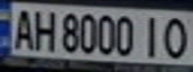0: (115, 12, 139, 57), (97, 11, 118, 56), (78, 10, 96, 55)
8: (57, 9, 81, 53)
A: (6, 6, 36, 51)
H: (30, 7, 57, 52)
I: (136, 12, 166, 59)
O: (160, 14, 193, 61)
